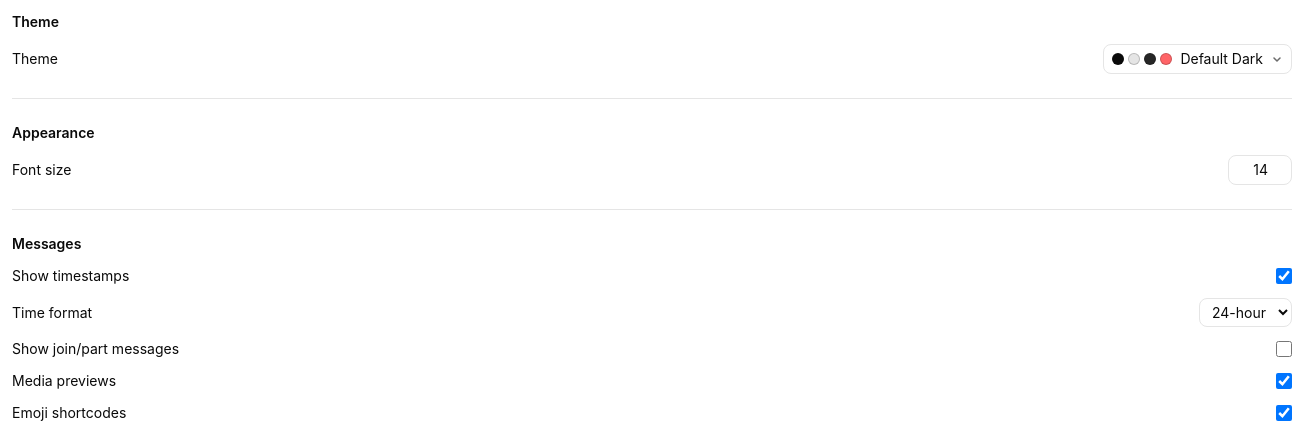
ThemePicker › closes dropdown when clicking outside
The width and height of the screenshot is (1304, 440).
Click the button with test id "theme-select". click: click(1198, 59)
box: [1103,44,1292,74]
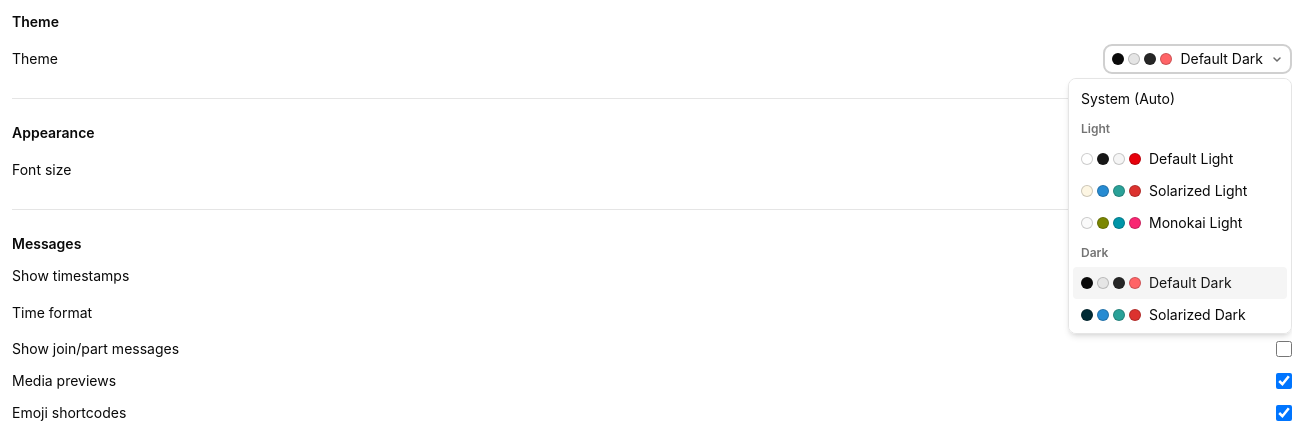
Result: the element with test id "theme-dropdown" is shown at [1068,78,1292,334]
// Click outside
Click the element that starts with "Theme". click: click(652, 218)
box: [12,12,1292,423]
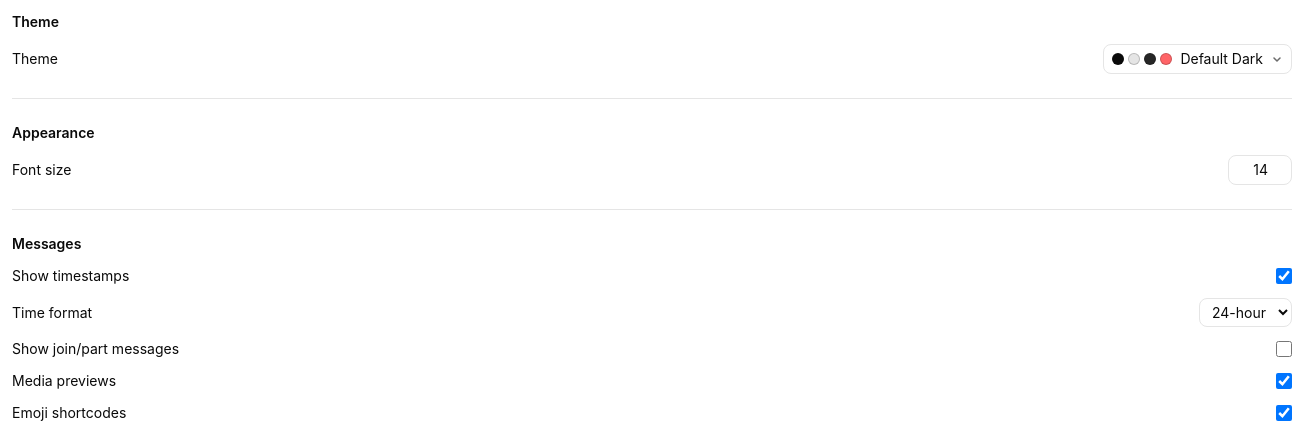
Result: the element with test id "theme-dropdown" is gone
